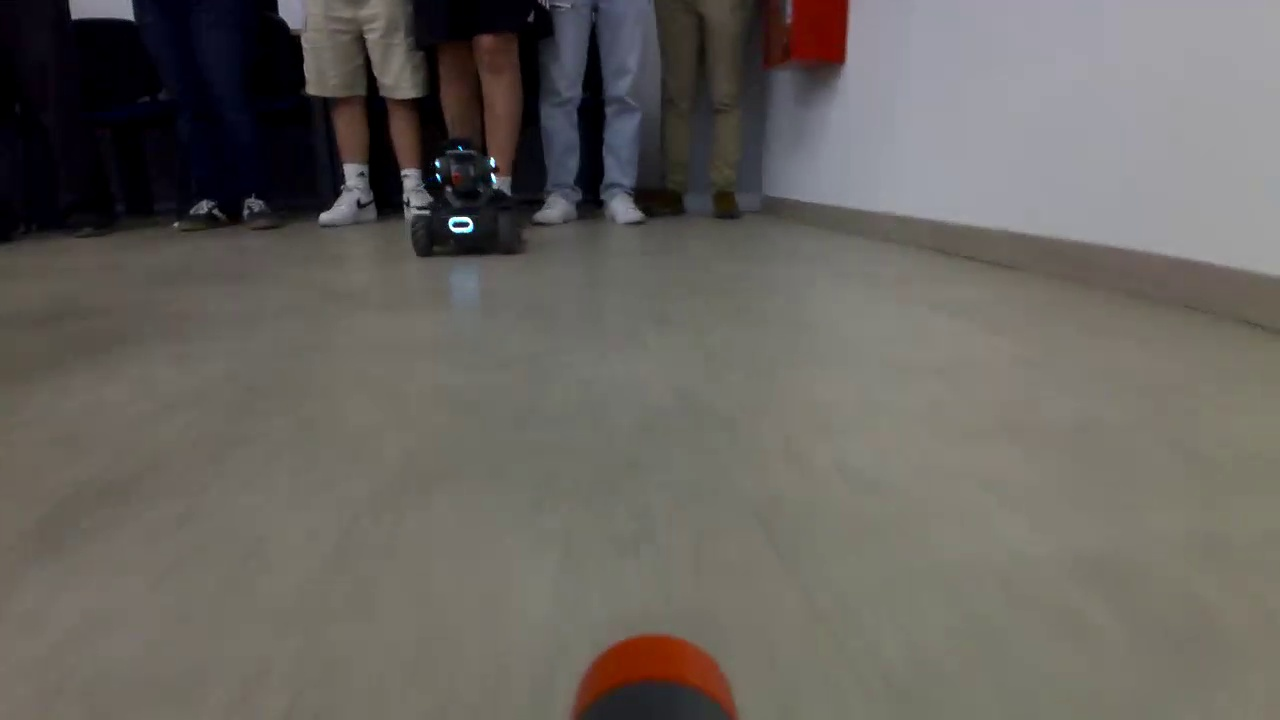robot: (411, 146, 524, 256)
